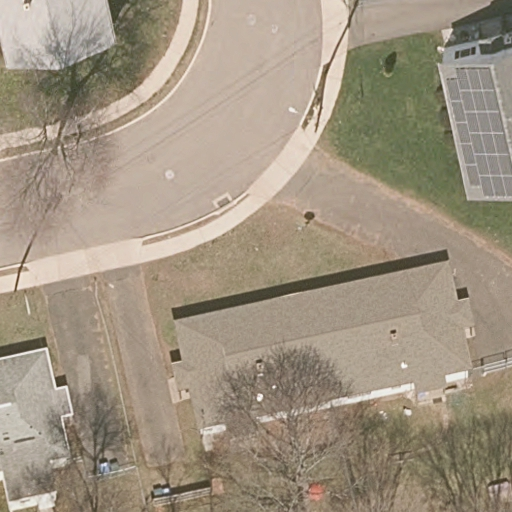DT: (289, 63, 331, 135)
